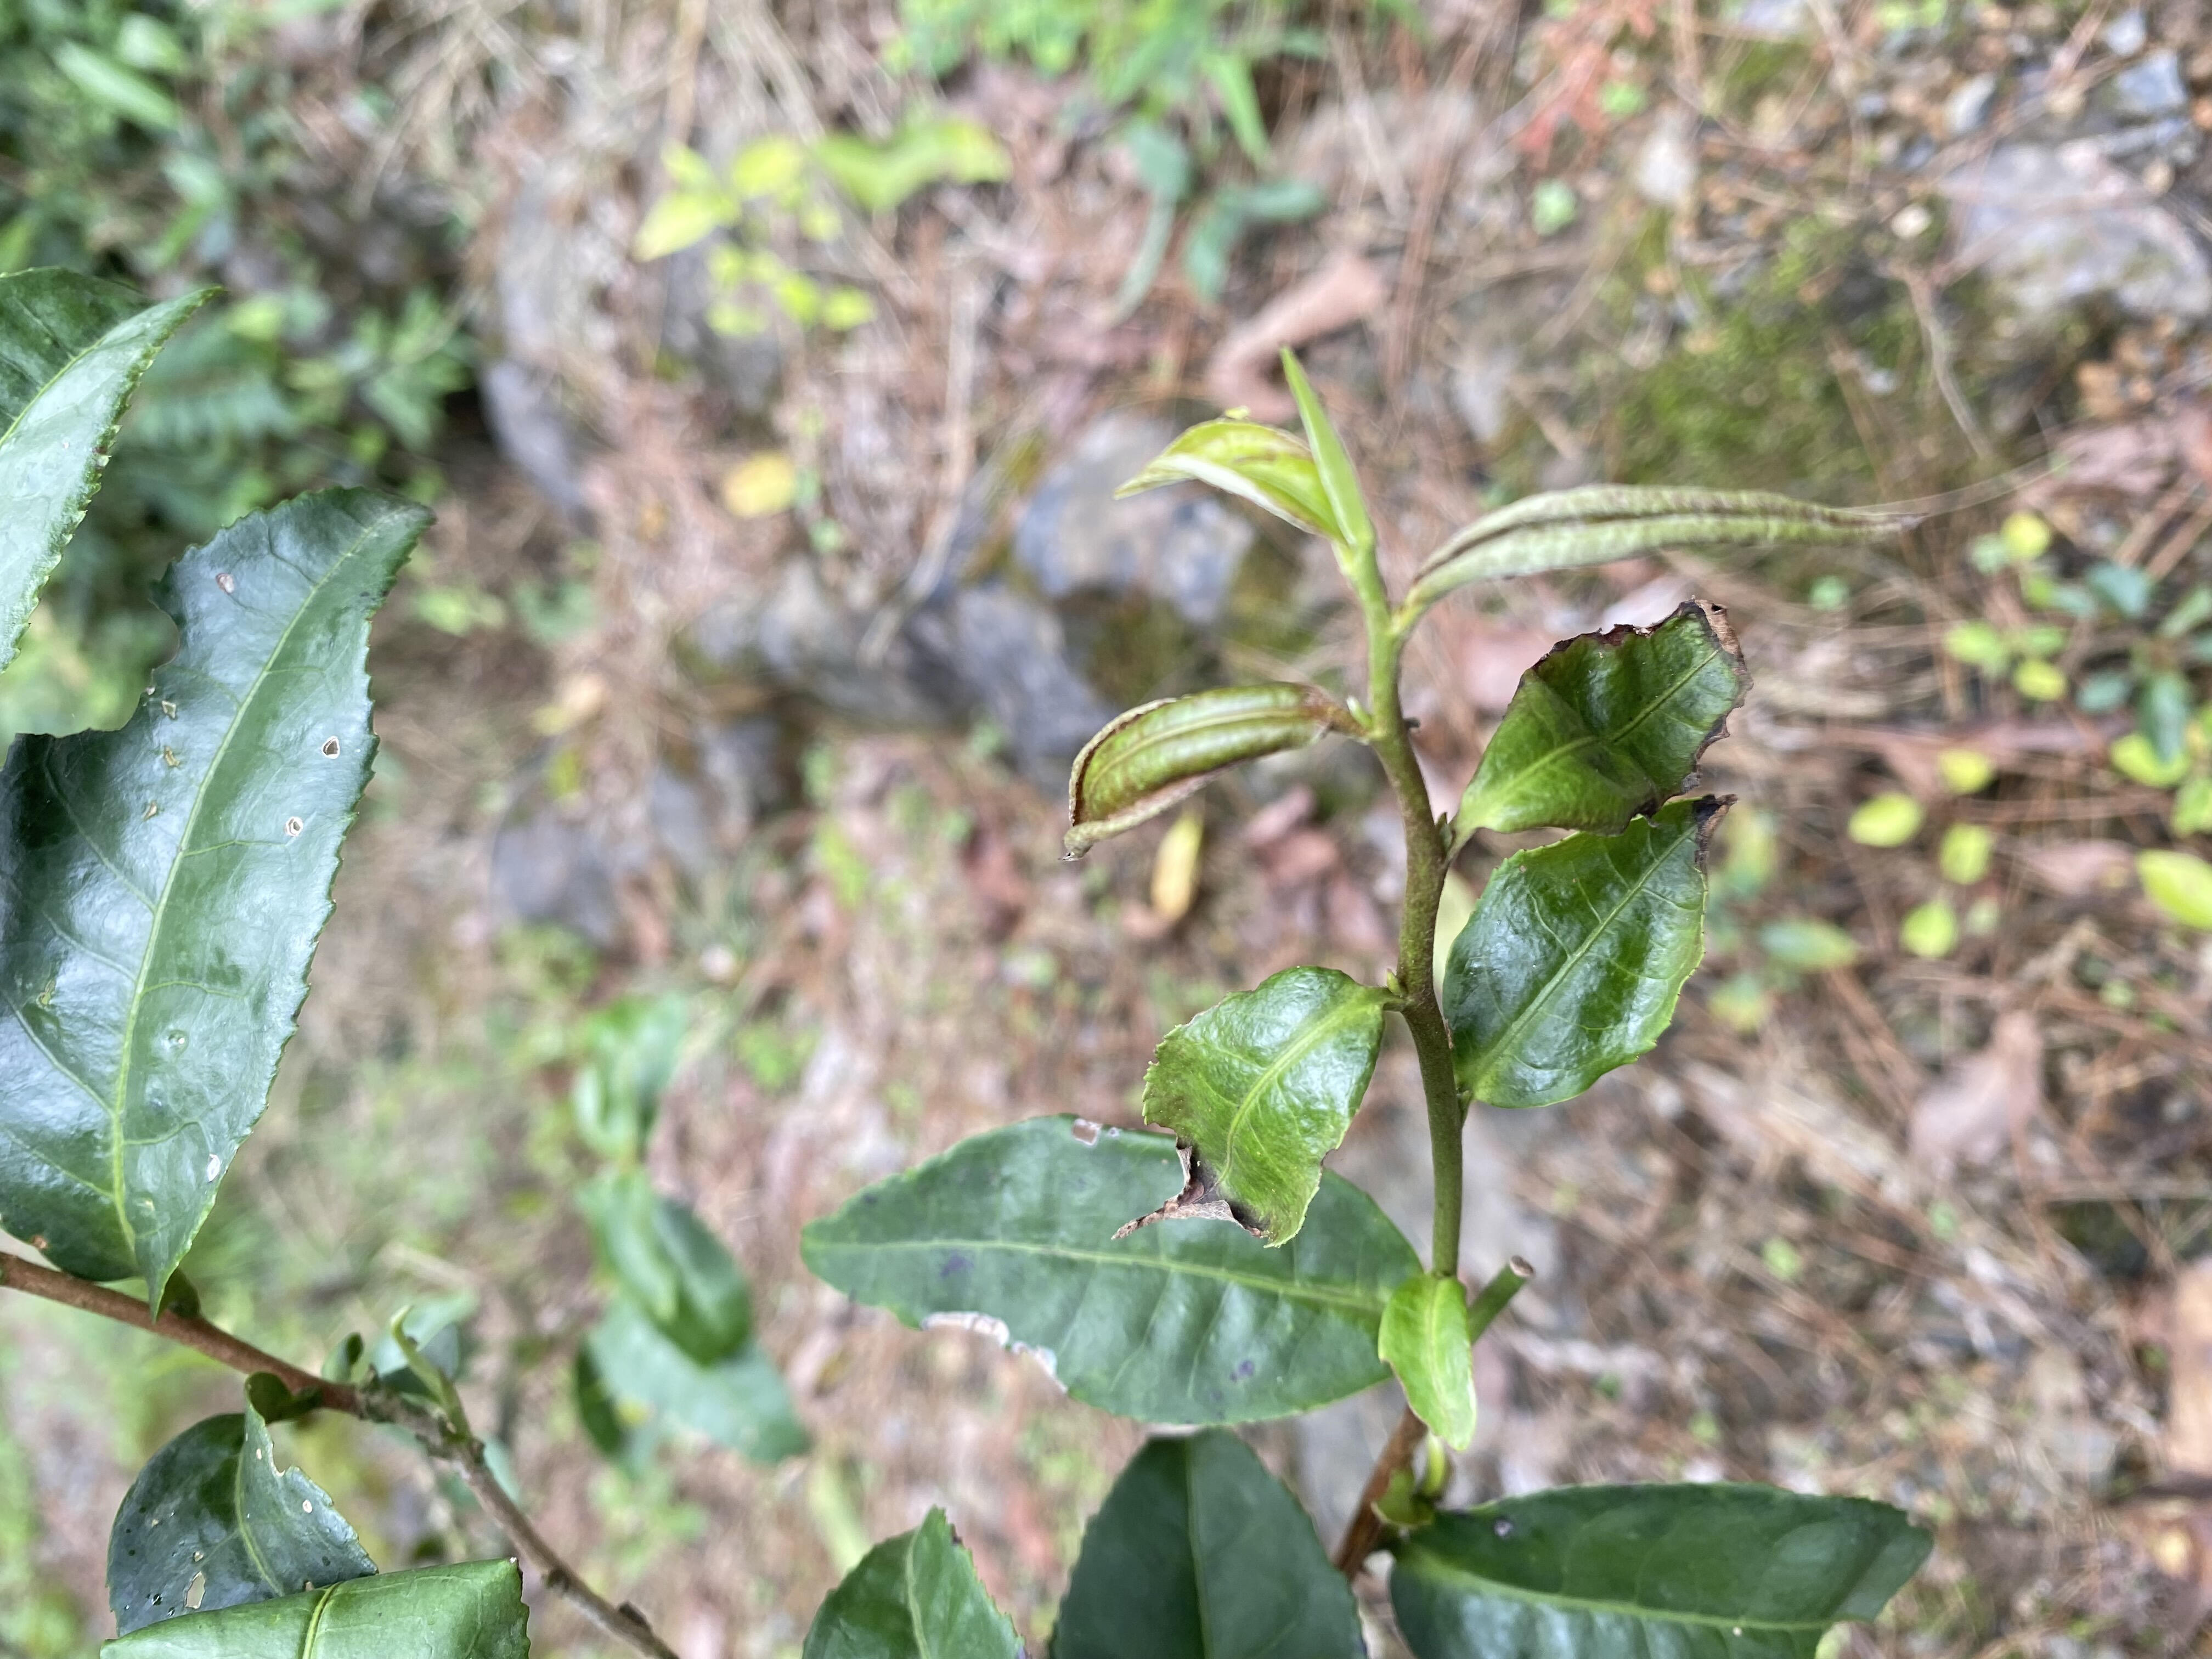chihuo_high: (3, 483, 439, 1324)
tanju_high: (798, 1110, 1425, 1438), (1442, 789, 1742, 1108), (1108, 967, 1385, 1253), (1463, 596, 1752, 838), (1061, 678, 1355, 863)
